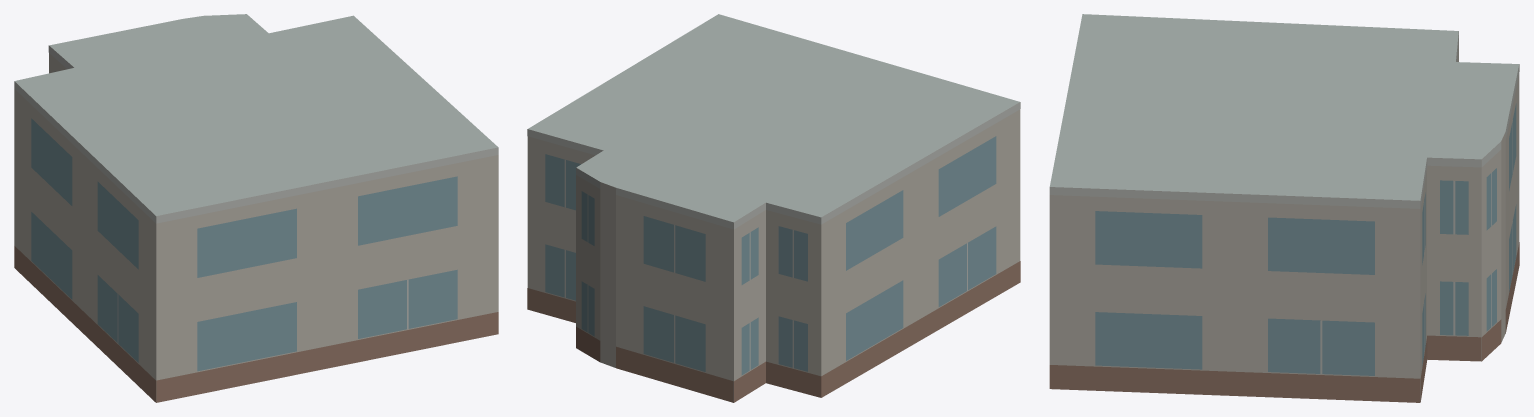
Rendered from survey-upis-32535854.glb.
3 views of the same model, side by side, from view 1: azimuth 30°, elevation 25°; view 2: azimuth 150°, elevation 25°; view 3: azimuth 270°, elevation 25° (orthographic). The views are drawn at different scales.
Visible parts, largest first — view 1: survey-upis-32535854.tmp; view 2: survey-upis-32535854.tmp; view 3: survey-upis-32535854.tmp.
Boxes of the visible parts, bbox=[...] form: survey-upis-32535854.tmp: bbox=[14, 14, 498, 402]; survey-upis-32535854.tmp: bbox=[527, 14, 1020, 402]; survey-upis-32535854.tmp: bbox=[1049, 14, 1519, 402].
Size of the model in its own units: 12.1 by 6.1 by 12.86.
